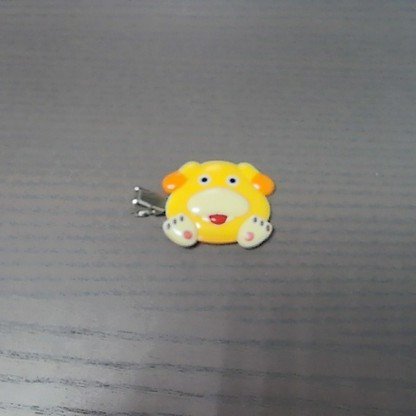dogclip: (130, 154, 274, 250)
